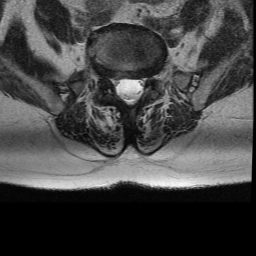CCS_normal: (124, 70, 133, 111)
LFS_severe_stenosis: (143, 66, 152, 87)
LLS_normal: (133, 70, 144, 106)
RFS_severe_stenosis: (103, 67, 115, 91)
RLS_normal: (115, 67, 124, 105)
